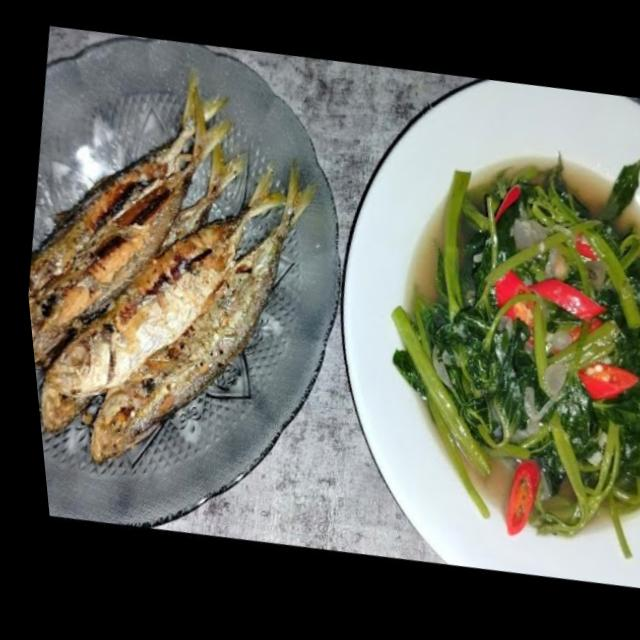ikan goreng: (55, 139, 341, 502), (11, 129, 304, 475), (6, 66, 283, 425), (4, 43, 247, 342)
kangkung: (335, 126, 640, 565)
